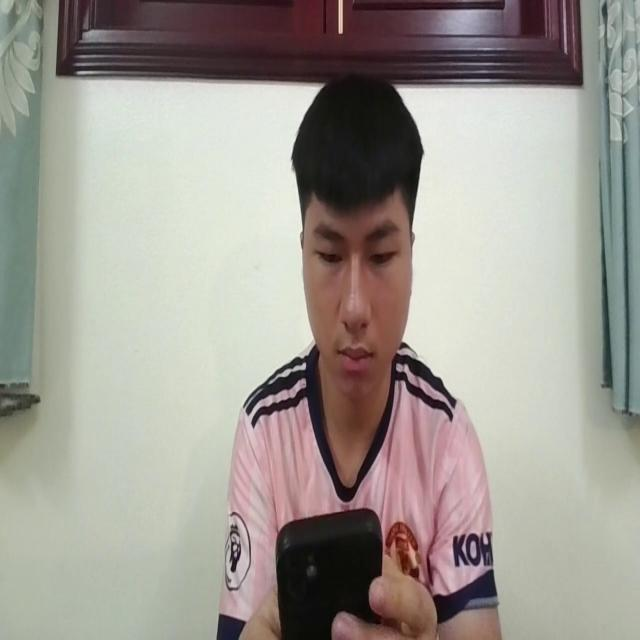phone: (273, 497, 384, 640)
student: (215, 62, 501, 640)
